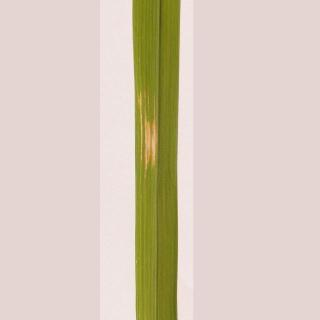Hawar-Daun: (123, 60, 184, 310)
